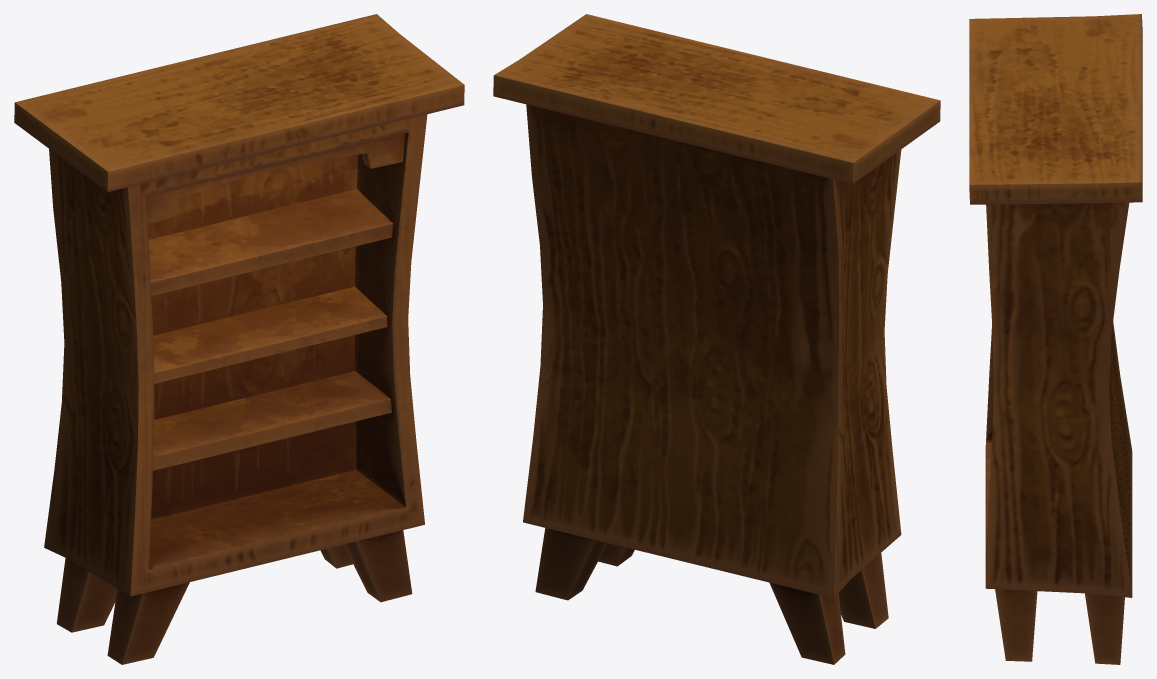
File: BookShelf_Lp.fbx
3 renders of one model, left to right at view 1: azimuth 30°, elevation 25°; view 2: azimuth 150°, elevation 25°; view 3: azimuth 270°, elevation 25°, orthographic. The views are drawn at different scales.
Parts seen in each view (by area): view 1: BookShelf_Lp; view 2: BookShelf_Lp; view 3: BookShelf_Lp.
Boxes of the visible parts, bbox=[...] form: BookShelf_Lp: bbox=[14, 14, 464, 664]; BookShelf_Lp: bbox=[493, 14, 940, 664]; BookShelf_Lp: bbox=[969, 14, 1142, 664].
Size of the model in its own units: 135 by 186 by 58.99.
